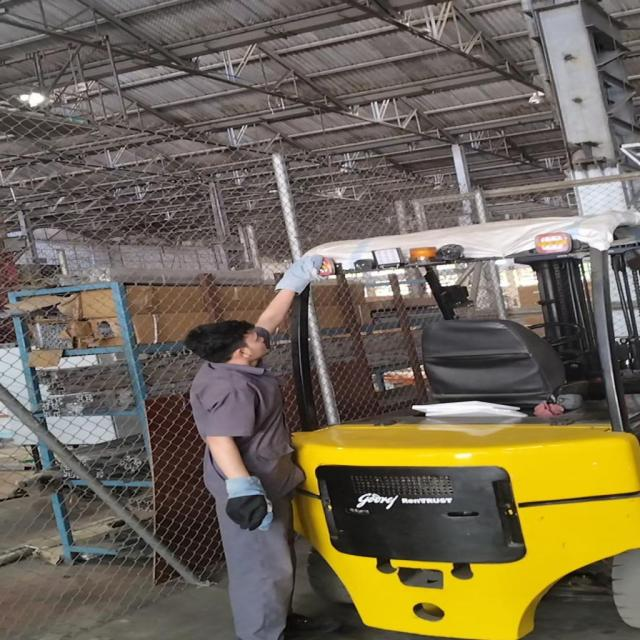Gloves-Detection: (220, 476, 278, 544), (268, 250, 318, 304)
